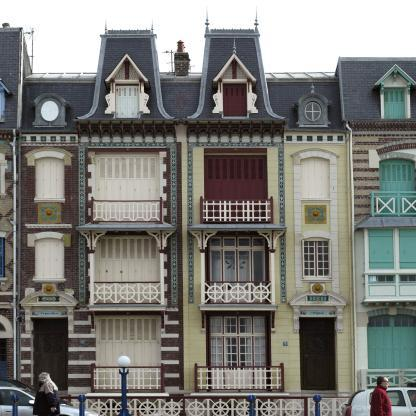Balcony: (194, 362, 285, 393), (90, 363, 164, 394), (199, 195, 274, 224), (90, 196, 163, 224), (202, 281, 274, 304), (91, 281, 163, 304)
Blind: (35, 156, 64, 199), (35, 238, 64, 280), (301, 157, 330, 199), (116, 83, 139, 118), (223, 83, 247, 116)
Building Outline: (18, 6, 354, 416)
Cornice: (288, 283, 348, 306), (19, 283, 79, 306), (24, 147, 75, 166), (27, 232, 71, 247), (31, 93, 71, 109), (292, 92, 332, 106), (291, 147, 340, 158), (301, 231, 332, 239)
Deco: (305, 205, 327, 224), (38, 204, 60, 223)
Door: (95, 315, 162, 393), (204, 152, 268, 224), (95, 153, 159, 224), (95, 235, 160, 304), (31, 318, 69, 391), (300, 317, 336, 390), (224, 334, 253, 391), (224, 249, 253, 304)
Facade: (19, 130, 354, 416)
Floor: (18, 140, 354, 230), (18, 230, 354, 310)
Floor Slab: (19, 305, 354, 311), (19, 225, 354, 231), (19, 134, 352, 140)
Ground Floor: (18, 310, 354, 416)
Molding: (73, 120, 288, 143), (284, 131, 346, 146), (21, 134, 78, 147)
Roof: (19, 38, 344, 130)
Top Floor: (19, 80, 352, 140)
Window: (35, 156, 64, 199), (35, 238, 64, 280), (301, 157, 330, 199), (301, 241, 332, 279), (209, 315, 224, 391), (209, 235, 224, 304), (253, 315, 266, 392), (253, 235, 266, 304), (116, 83, 139, 118), (223, 83, 247, 116), (224, 315, 253, 334), (224, 235, 253, 249)
dont: (0, 372, 102, 416), (342, 375, 416, 416), (115, 355, 134, 416), (247, 394, 256, 416), (313, 395, 322, 416)
